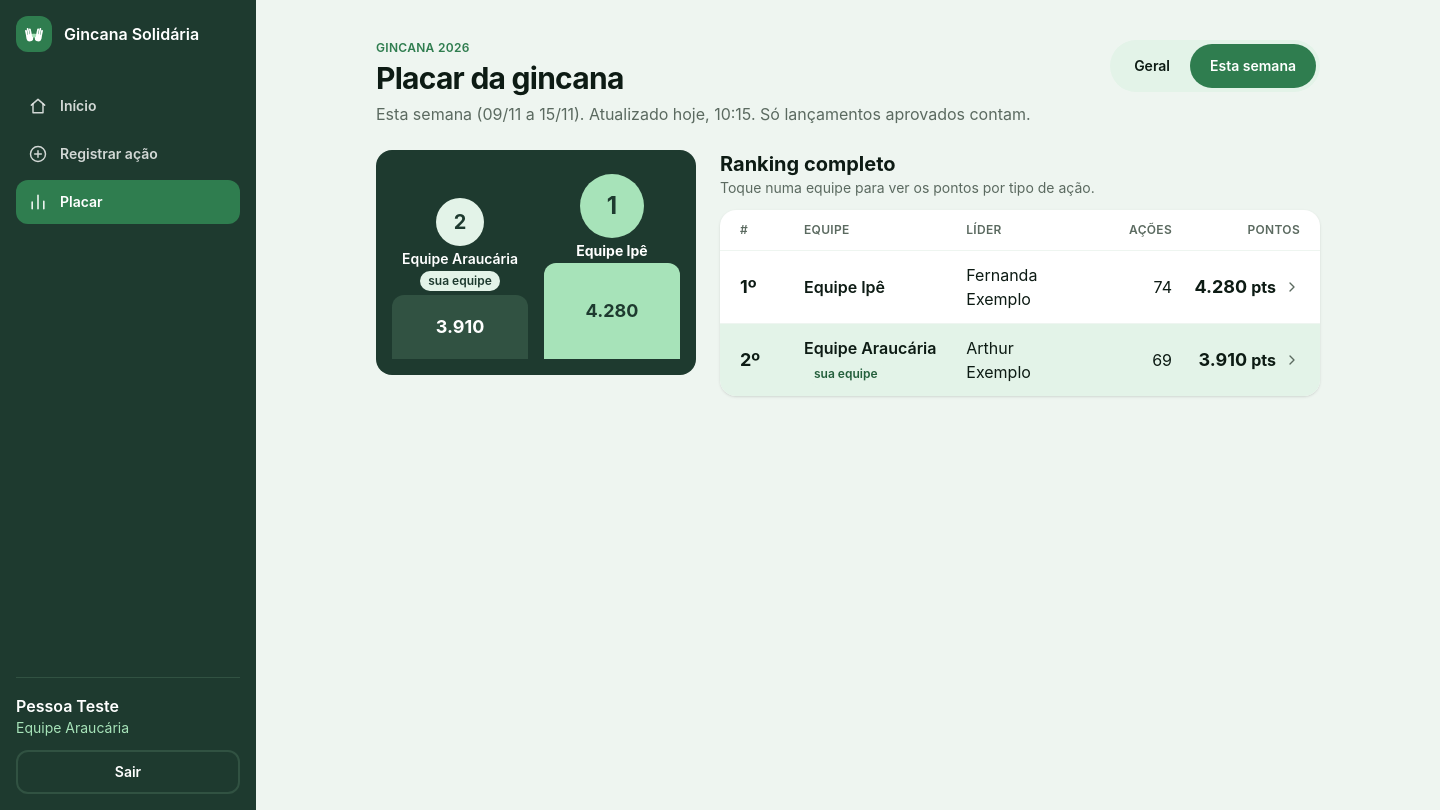
Test case: Placar da gincana (US11) › extrato da equipe › abre também pelo pódio, e pede o extrato com o mesmo período do placar
Click the button "1 Equipe Ipê 4.280".
click(612, 264)  # box [540, 170, 684, 359]
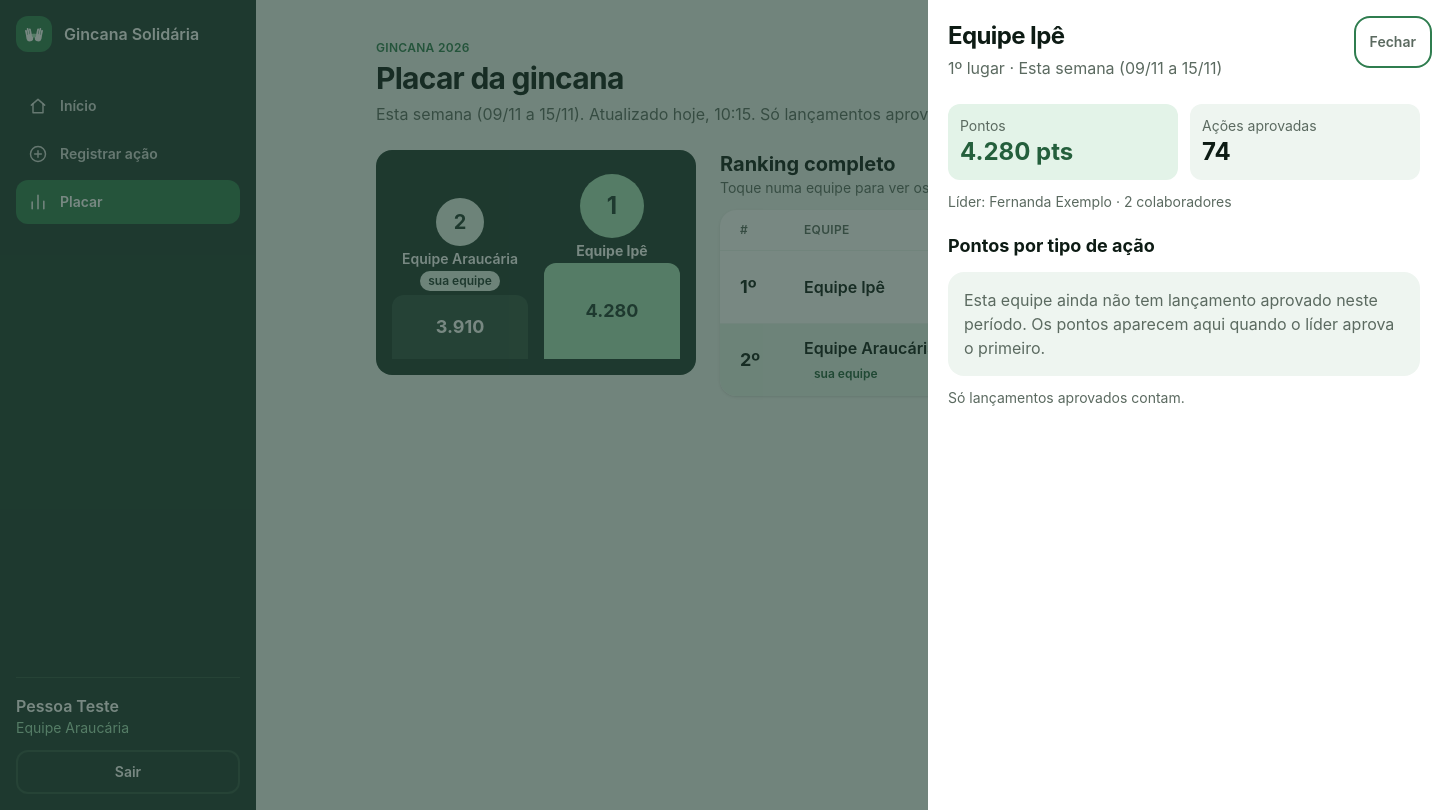
Now the text "1º lugar · Esta semana (09/11 a 15/11)" is shown, box [948, 58, 1222, 78]
Now the text "ainda não tem lançamento aprovado neste período" is shown, box [964, 290, 1394, 358]
